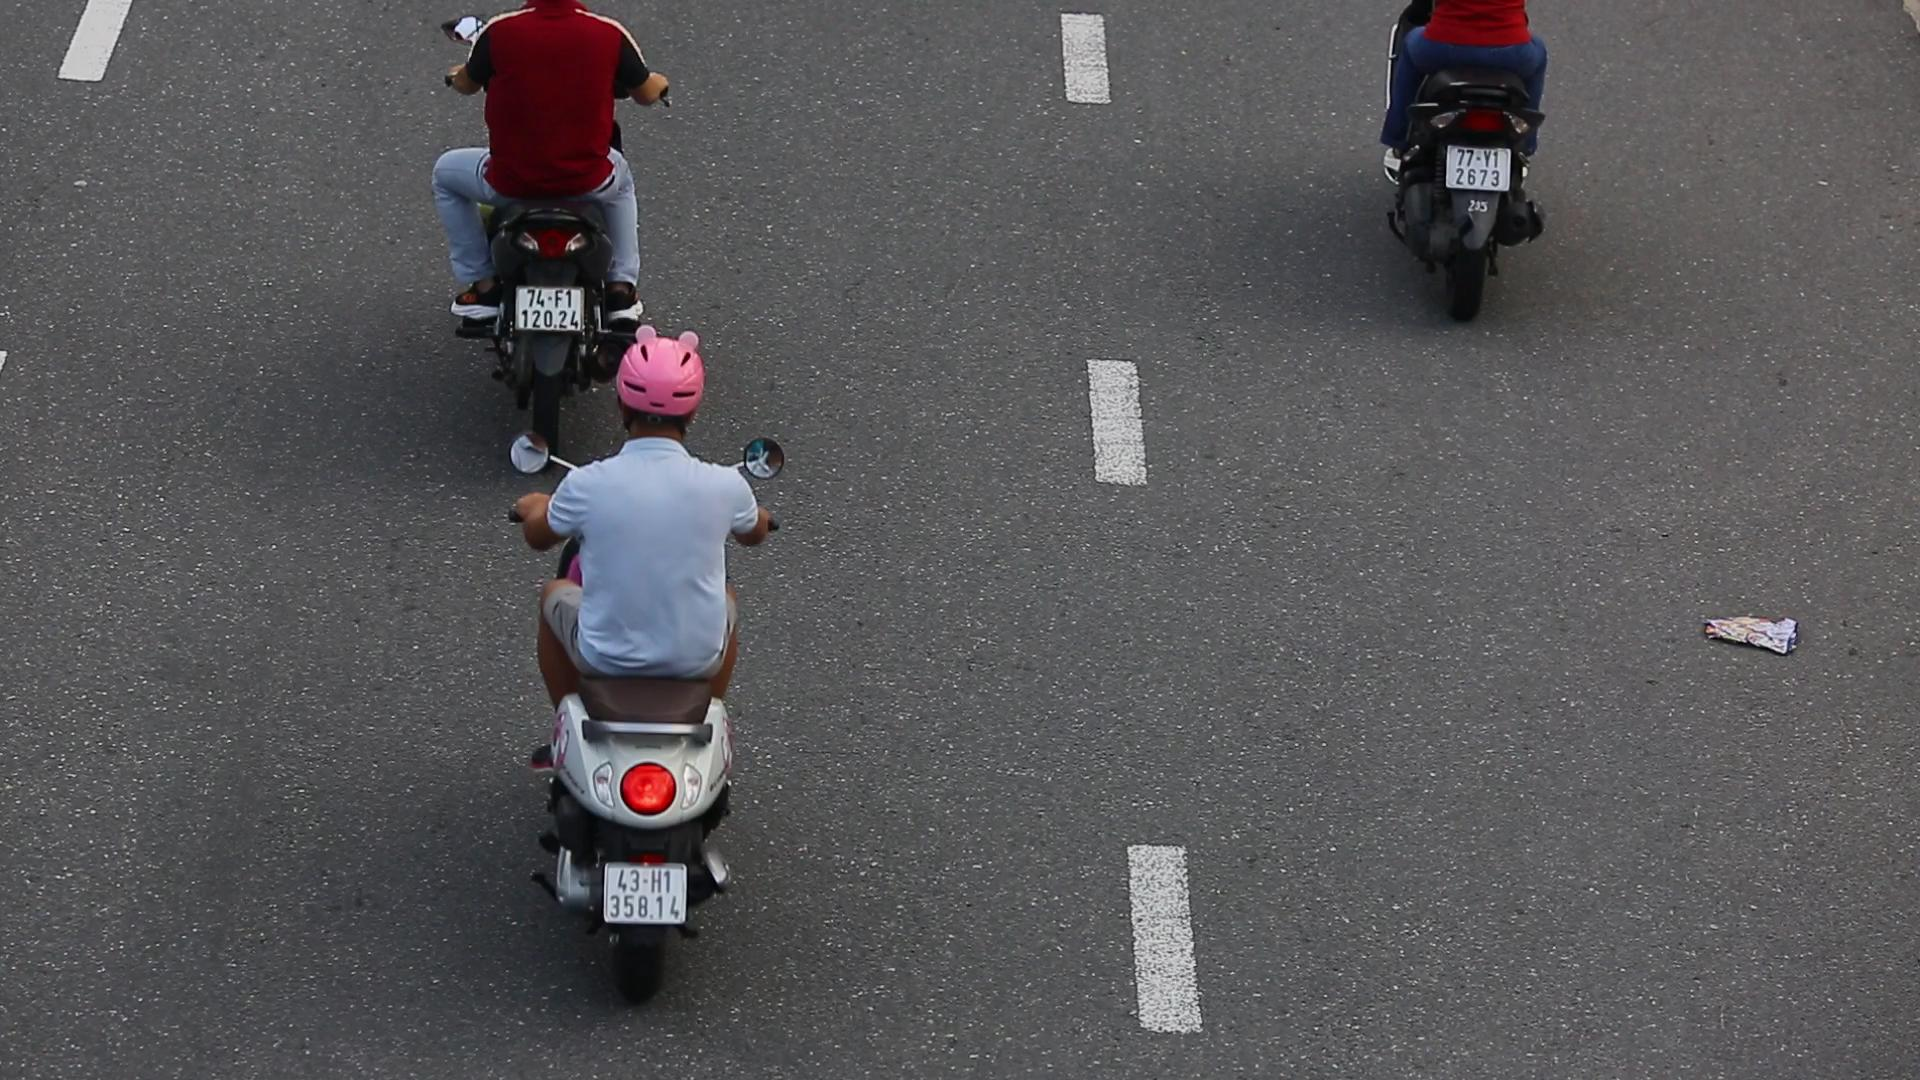motobike: (508, 315, 790, 1010)
